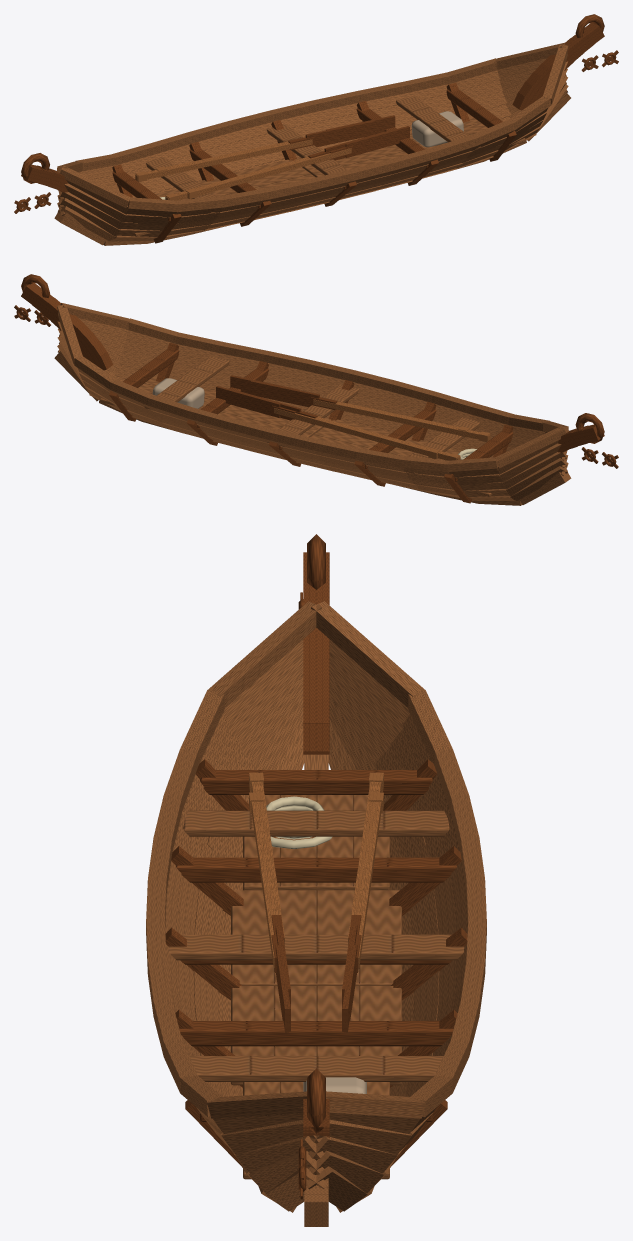
Rendered from viking-age-longhouse-and-longship-faering-rowing-boat-e01ff0e7__30189.glb.
3 renders of one model, top to bottom at view 1: azimuth 30°, elevation 25°; view 2: azimuth 150°, elevation 25°; view 3: azimuth 270°, elevation 25°, orthographic. The views are drawn at different scales.
Visible parts, largest first — view 1: faering-rowing-boat; view 2: faering-rowing-boat; view 3: faering-rowing-boat.
Boxes of the visible parts, <box> form: faering-rowing-boat: <box>14,14,618,245</box>; faering-rowing-boat: <box>14,274,618,505</box>; faering-rowing-boat: <box>146,534,486,1226</box>.
Size of the model in its own units: 7.46 by 1.41 by 1.82.
Materials: 5 (3 with a texture image).
